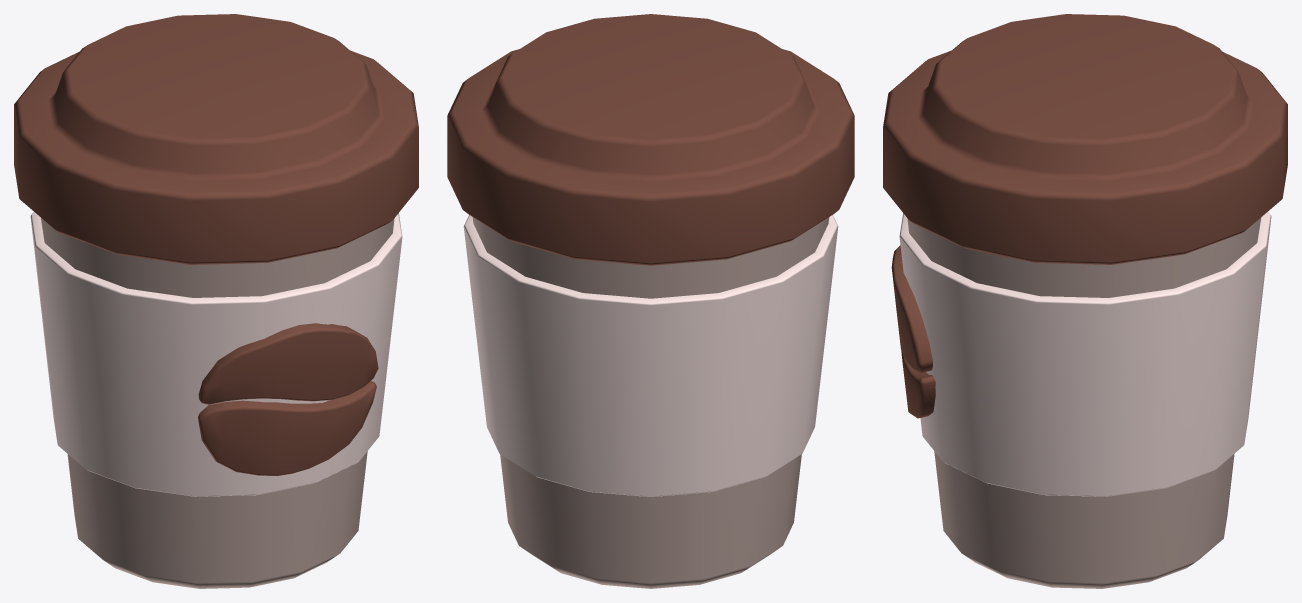
File: Store_5_Coffee_Drink_1.glb
The picture shows the model from 3 angles, left to right: view 1: azimuth 30°, elevation 25°; view 2: azimuth 150°, elevation 25°; view 3: azimuth 270°, elevation 25°; orthographic projection.
Visible parts, largest first — view 1: Store_5_Coffee_Drink_1; view 2: Store_5_Coffee_Drink_1; view 3: Store_5_Coffee_Drink_1.
Boxes of the visible parts, left/top/right/bottom form: Store_5_Coffee_Drink_1: left=14, top=14, right=418, bottom=588; Store_5_Coffee_Drink_1: left=447, top=14, right=854, bottom=588; Store_5_Coffee_Drink_1: left=883, top=14, right=1287, bottom=588.
Bounding box in the file's own units: 0.1864 × 0.2334 × 0.1864.
Materials: 1 (1 with a texture image).
